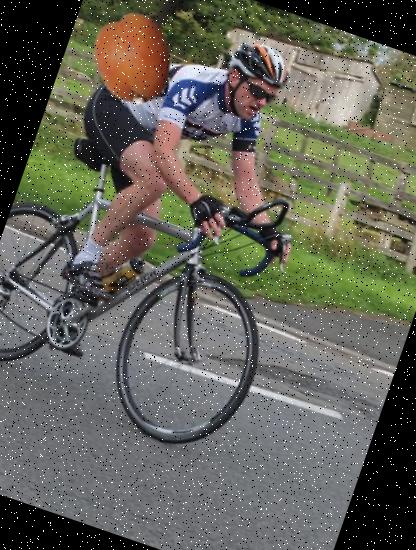Apricot: (77, 2, 191, 116)
